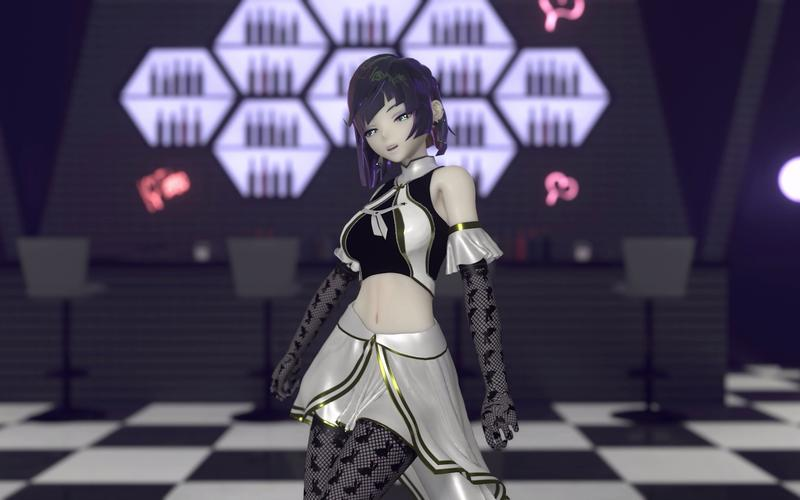夜兰: (272, 50, 523, 500)
